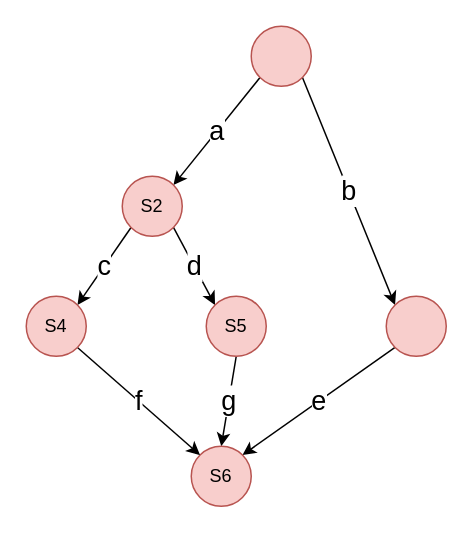
This 473x533 diagram has some shape labels left out. Here are the shapes that lost their labels. From the top down, the box of each, then its label:
(250, 25, 311, 86): S1
(385, 295, 446, 356): S3
